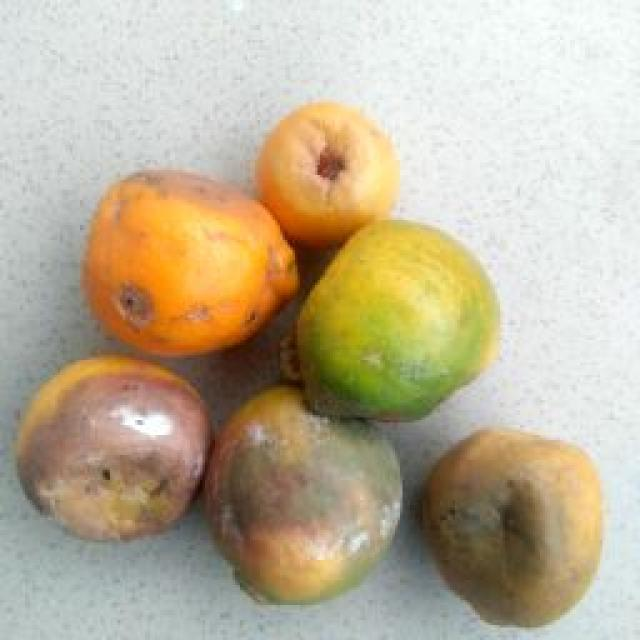Bad_Orange: (205, 386, 401, 602), (19, 355, 208, 539), (422, 431, 599, 626)
